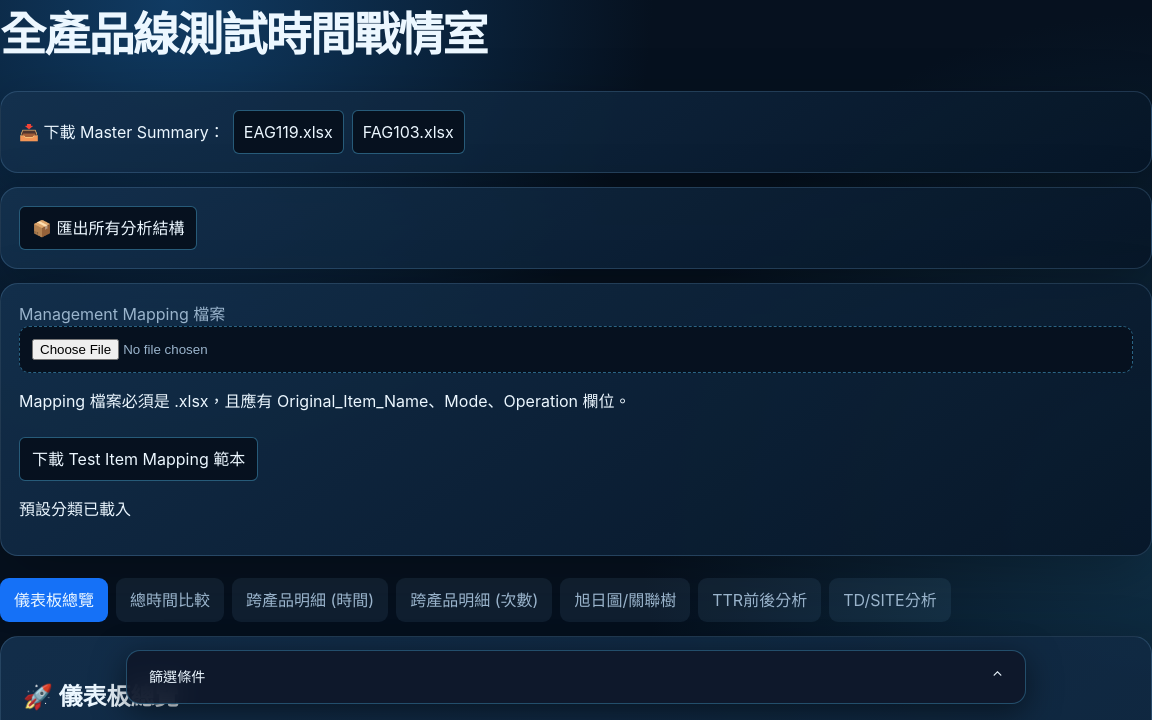
Scenario: DashboardPage › opens TD analysis after the TTR comparison tab
Click the tab "TD/SITE分析" at (890, 600), box x1=829 y1=578 x2=951 y2=622
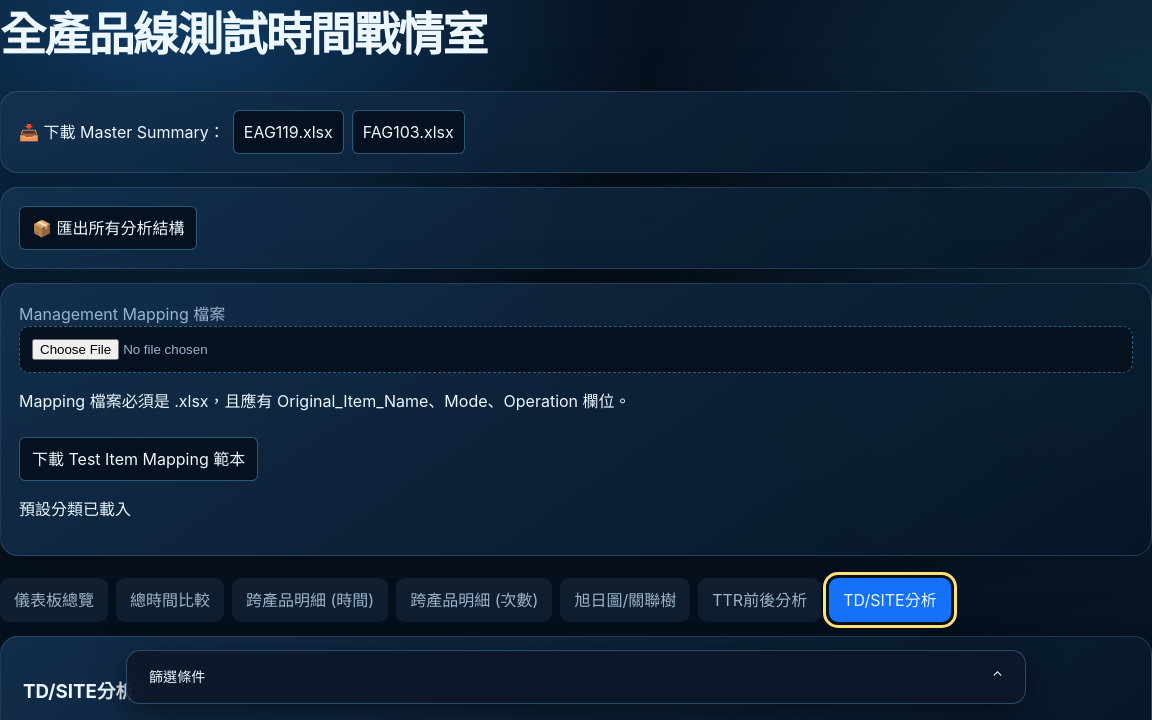
Now the heading "TD/SITE分析" is shown, box x1=23 y1=680 x2=134 y2=703
